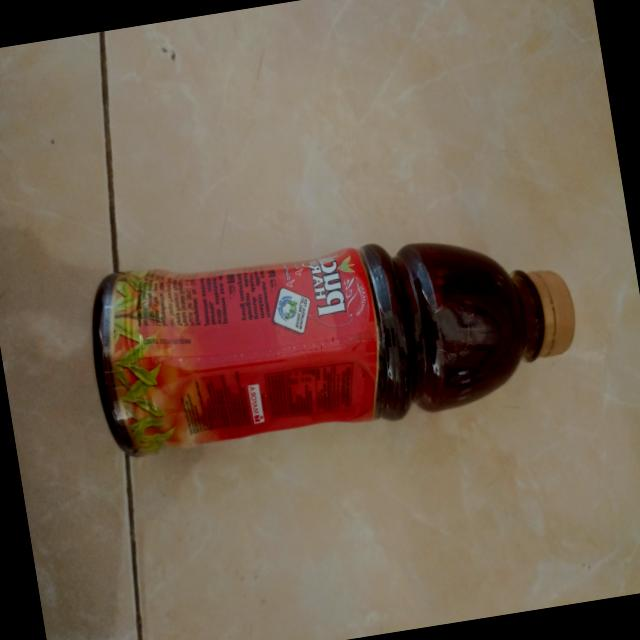teh-pucuk: (81, 200, 587, 468)
